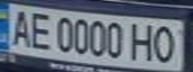0: (106, 19, 130, 61), (51, 14, 75, 54), (87, 18, 109, 57), (69, 16, 90, 55)
A: (6, 7, 36, 47)
E: (24, 9, 54, 51)
H: (127, 20, 160, 62)
O: (151, 22, 181, 64)
